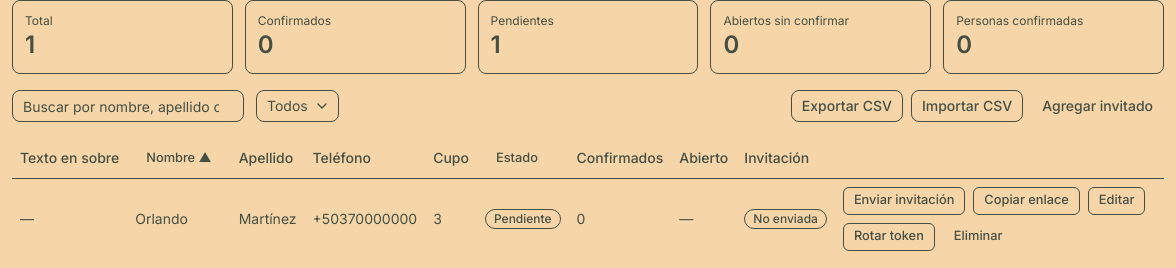
Scenario: AdminGuestsPage › showsTheFilteredEmptyCopyWhenAGuestListExistsButTheSearchMatchesNothing
Type "nadie-coincide" into the search field named "Buscar invitados". click: (128, 106)
box: [12,90,244,122]
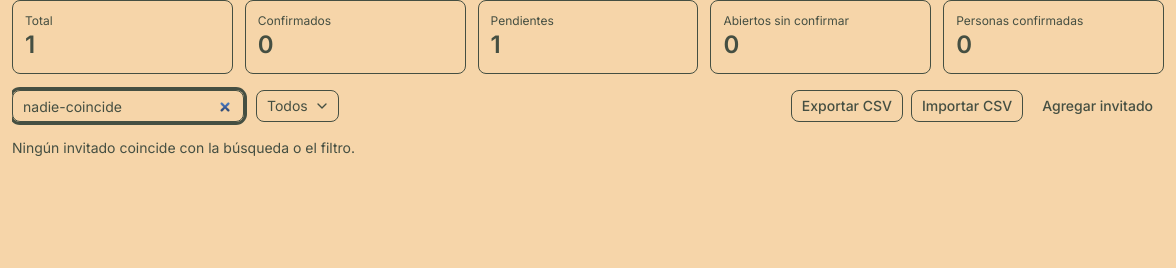
Result: the text "Ningún invitado coincide con la búsqueda o el filtro." is shown at [12,139,355,156]
